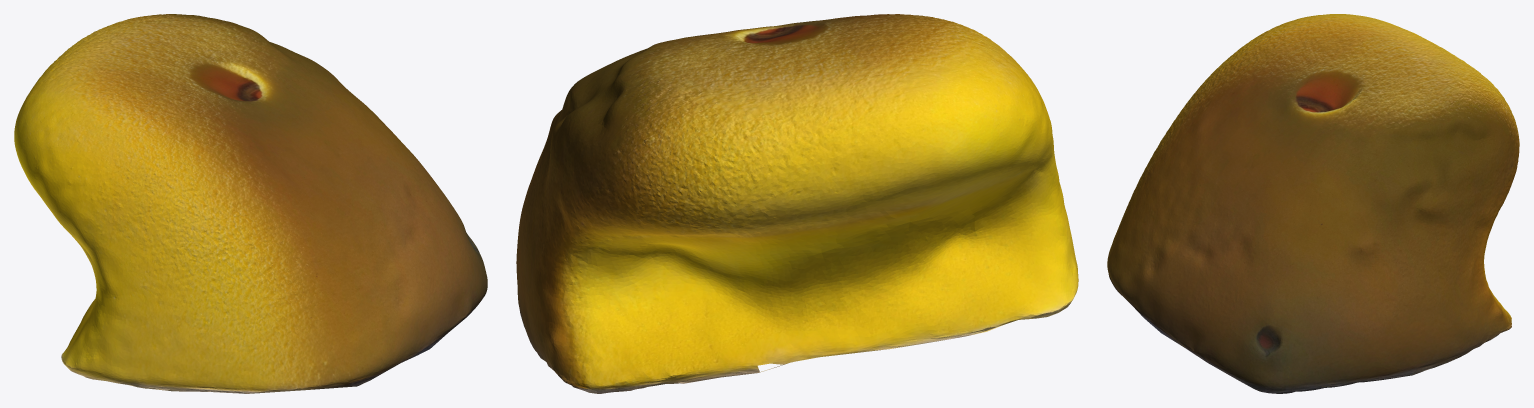
File: Teknik_BigBullies_1.glb
The picture shows the model from 3 angles, left to right: view 1: azimuth 30°, elevation 25°; view 2: azimuth 150°, elevation 25°; view 3: azimuth 270°, elevation 25°; orthographic projection. The views are drawn at different scales.
Size of the model in its own units: 0.8706 by 0.5106 by 0.8379.
1 material, 1 textured.
